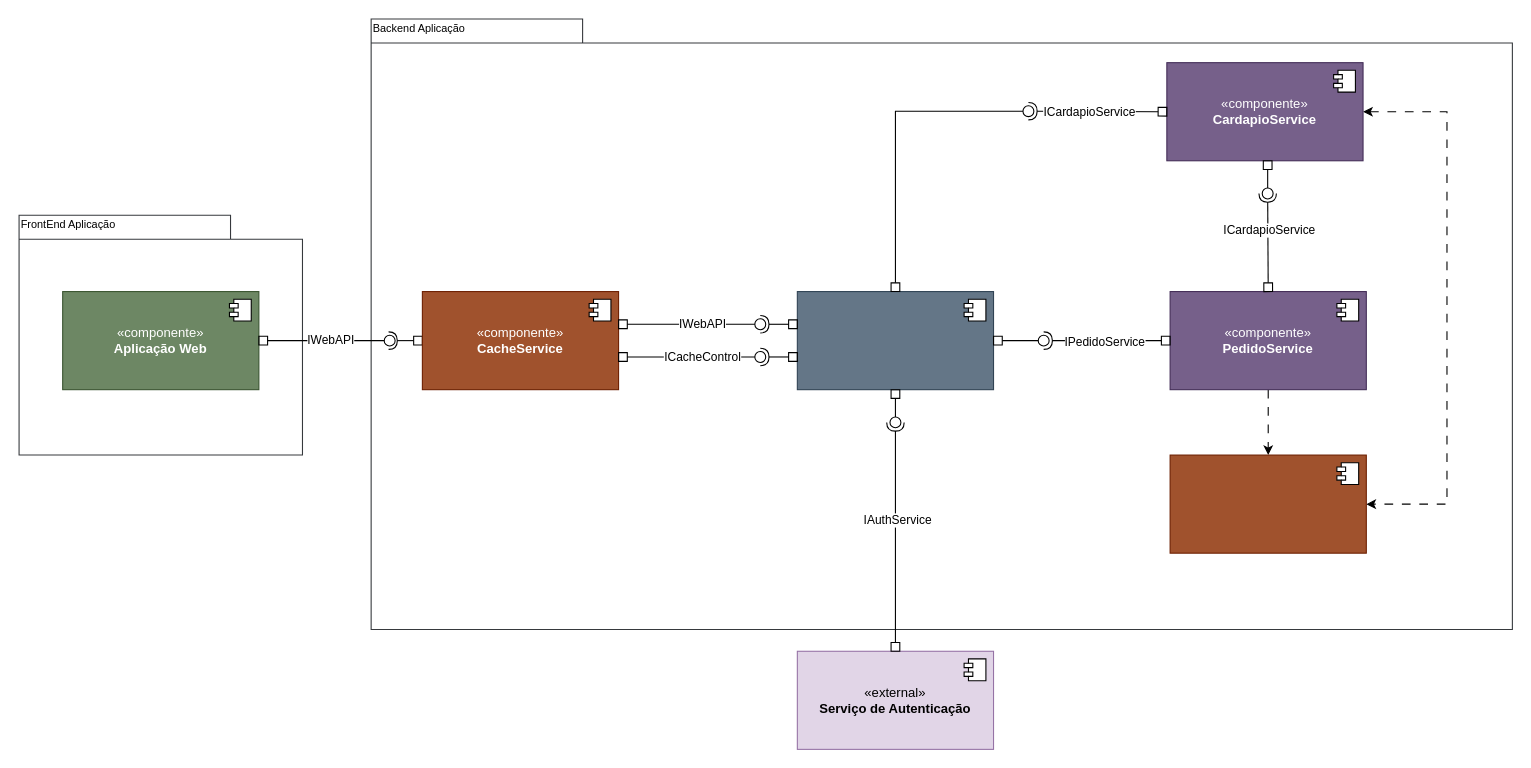
Some shapes in this 1531 by 768 pixel diagram are drawn without their labels. Each missing label, with the box of its shape:
«componente» API Gateway: (796, 290, 994, 390)
«componente» Banco de Dados: (1169, 454, 1366, 553)
